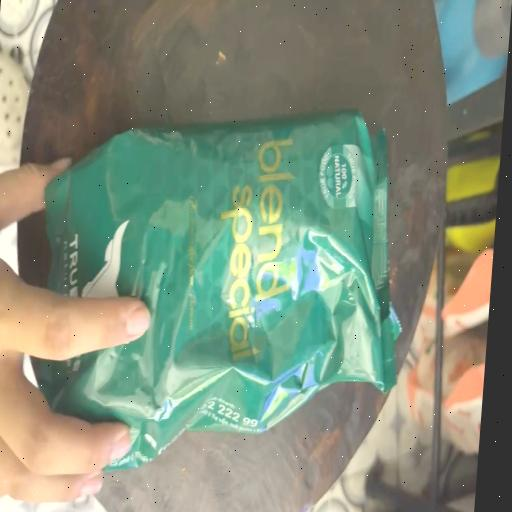cafe_xay: (36, 111, 399, 470)
